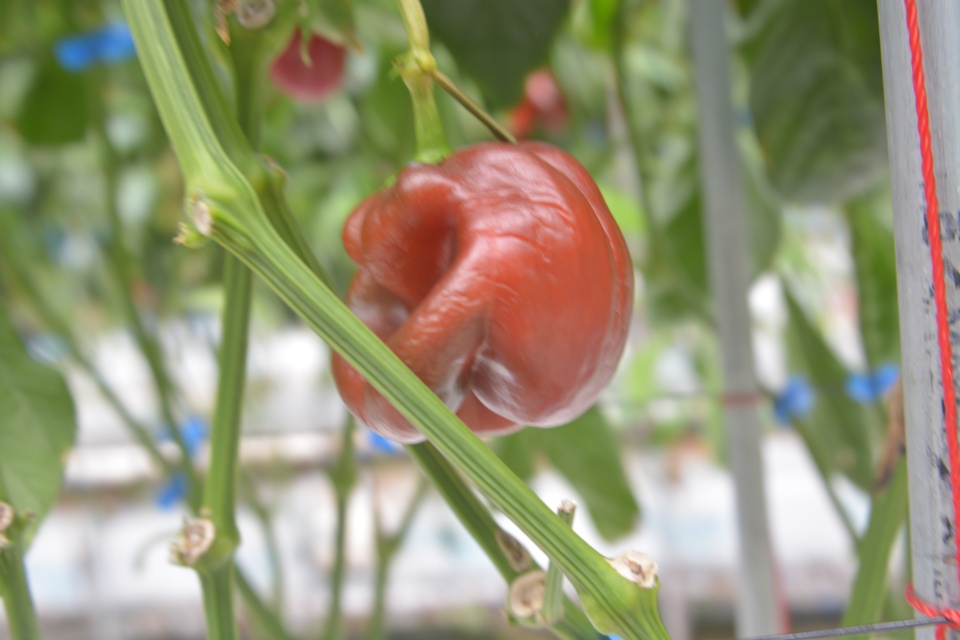fruit: (322, 143, 640, 452), (268, 24, 351, 101), (501, 64, 575, 143)
